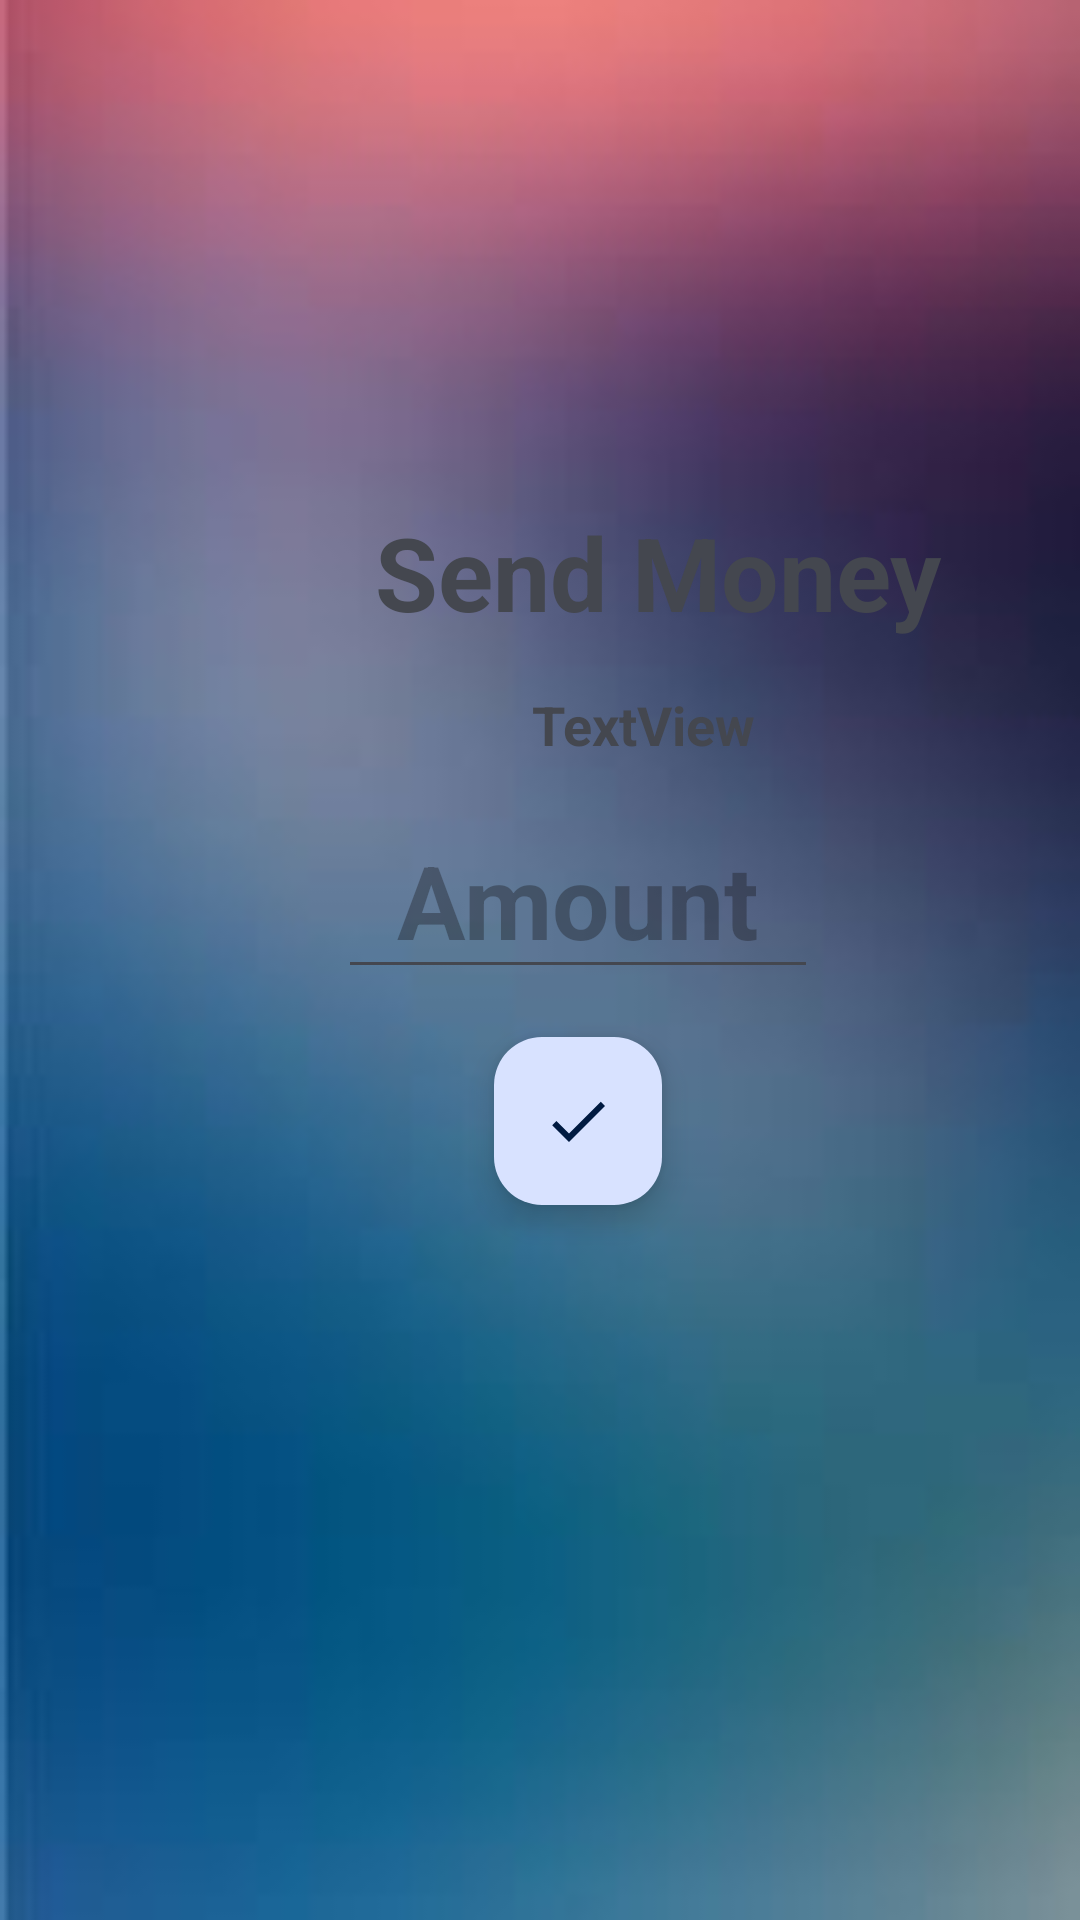

Locate icon controls on the screen. Image size 1080 x 1920, boxes as [x1, y1, x2, y2].
done: [494, 1037, 662, 1205]
